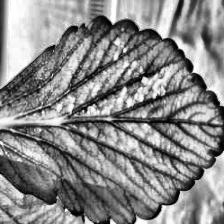Angular Leafspot: (50, 22, 185, 122)
